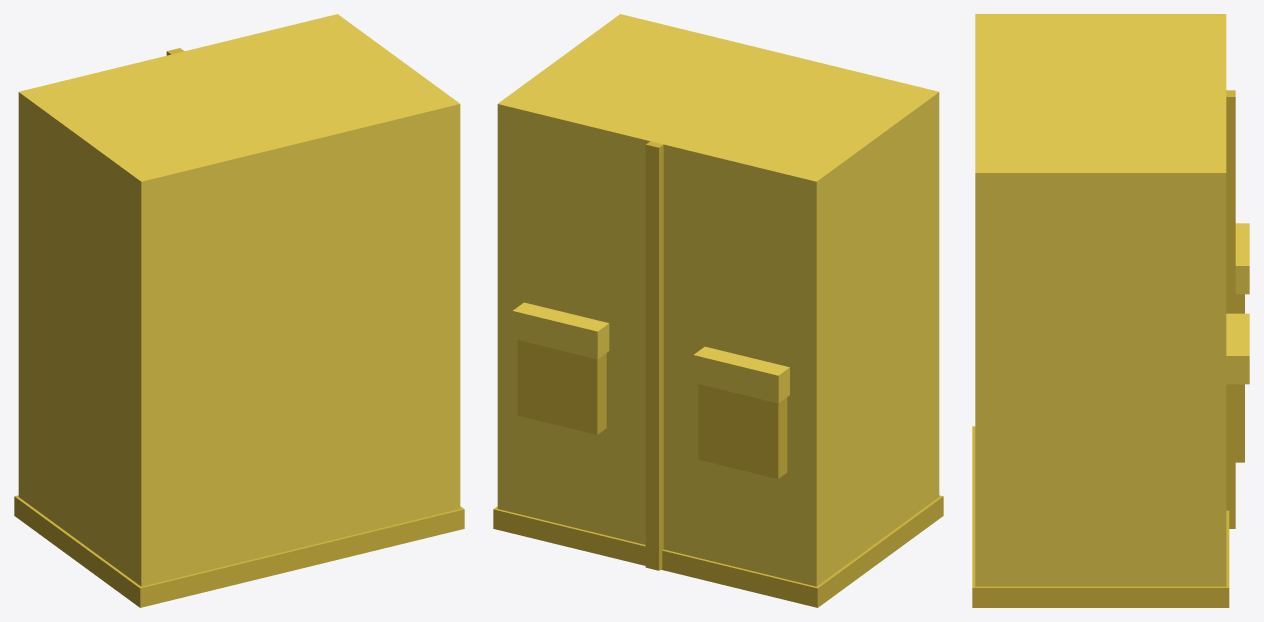
File: capa_chuva_saia.glb
The picture shows the model from 3 angles, left to right: view 1: azimuth 30°, elevation 25°; view 2: azimuth 150°, elevation 25°; view 3: azimuth 270°, elevation 25°; orthographic projection. The views are drawn at different scales.
Parts seen in each view (by area): view 1: capa_chuva_saia; view 2: capa_chuva_saia; view 3: capa_chuva_saia.
Boxes of the visible parts, box(x1,y1,x2,y2) form: capa_chuva_saia: box(14, 14, 464, 607); capa_chuva_saia: box(493, 14, 943, 607); capa_chuva_saia: box(972, 14, 1249, 607).
Bounding box in the file's own units: 0.61 × 0.7625 × 0.4425.
